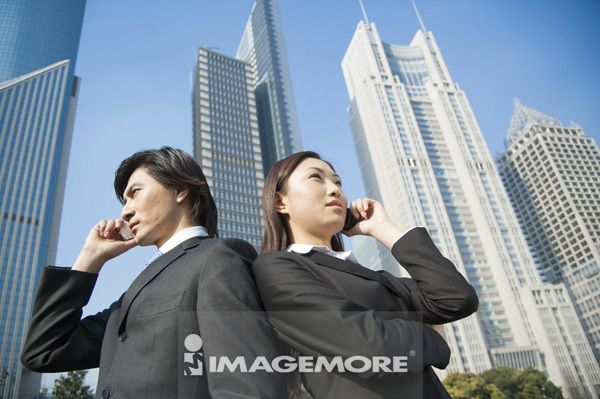talk: (302, 165, 390, 238), (84, 177, 150, 262)
